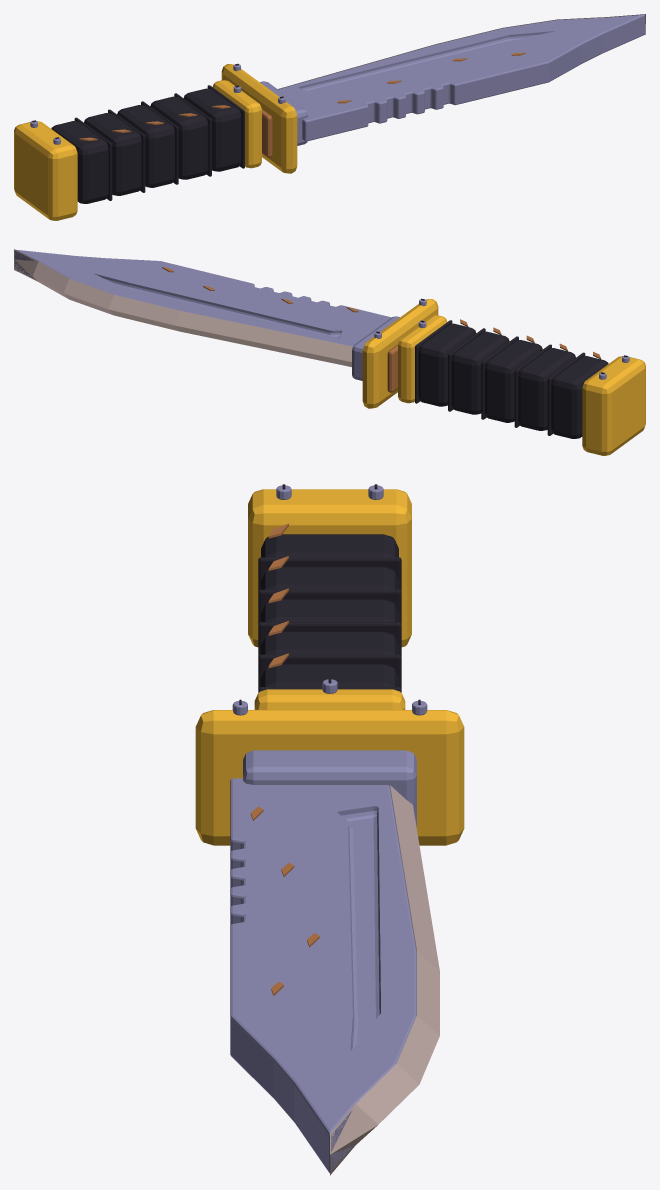
The picture shows the model from 3 angles, top to bottom: view 1: azimuth 30°, elevation 25°; view 2: azimuth 150°, elevation 25°; view 3: azimuth 270°, elevation 25°; orthographic projection. The views are drawn at different scales.
Visible parts, largest first — view 1: body_pal_lavenderShadow, body_pal_uiDark, body_pal_schoolBusYellow, body_pal_woodWarm, body_pal_sidewalk; view 2: body_pal_uiDark, body_pal_lavenderShadow, body_pal_schoolBusYellow, body_pal_sidewalk, body_pal_woodWarm; view 3: body_pal_lavenderShadow, body_pal_schoolBusYellow, body_pal_uiDark, body_pal_sidewalk, body_pal_woodWarm.
Boxes of the visible parts, <box> form: body_pal_lavenderShadow: <box>30,14,645,145</box>; body_pal_uiDark: <box>32,63,283,203</box>; body_pal_schoolBusYellow: <box>14,64,297,220</box>; body_pal_woodWarm: <box>79,52,525,157</box>; body_pal_sidewalk: <box>278,14,645,89</box>; body_pal_uiDark: <box>376,298,627,438</box>; body_pal_lavenderShadow: <box>14,250,629,380</box>; body_pal_schoolBusYellow: <box>362,299,645,455</box>; body_pal_sidewalk: <box>14,249,352,366</box>; body_pal_woodWarm: <box>162,267,601,392</box>; body_pal_lavenderShadow: <box>230,485,427,1172</box>; body_pal_schoolBusYellow: <box>195,489,464,845</box>; body_pal_uiDark: <box>239,484,420,704</box>; body_pal_sidewalk: <box>330,785,439,1175</box>; body_pal_woodWarm: <box>250,523,319,995</box>.
Bounding box in the file's own units: 0.555 × 0.067 × 0.105.
